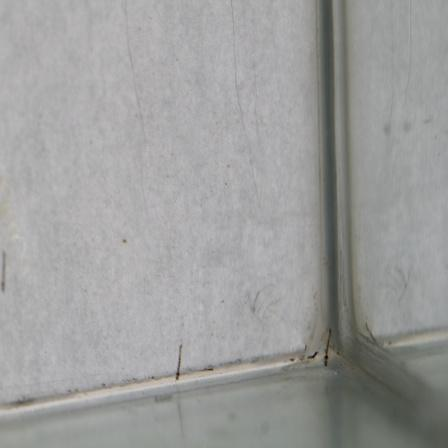Jentik-Nyamuk: (169, 339, 187, 385), (319, 326, 335, 365)
